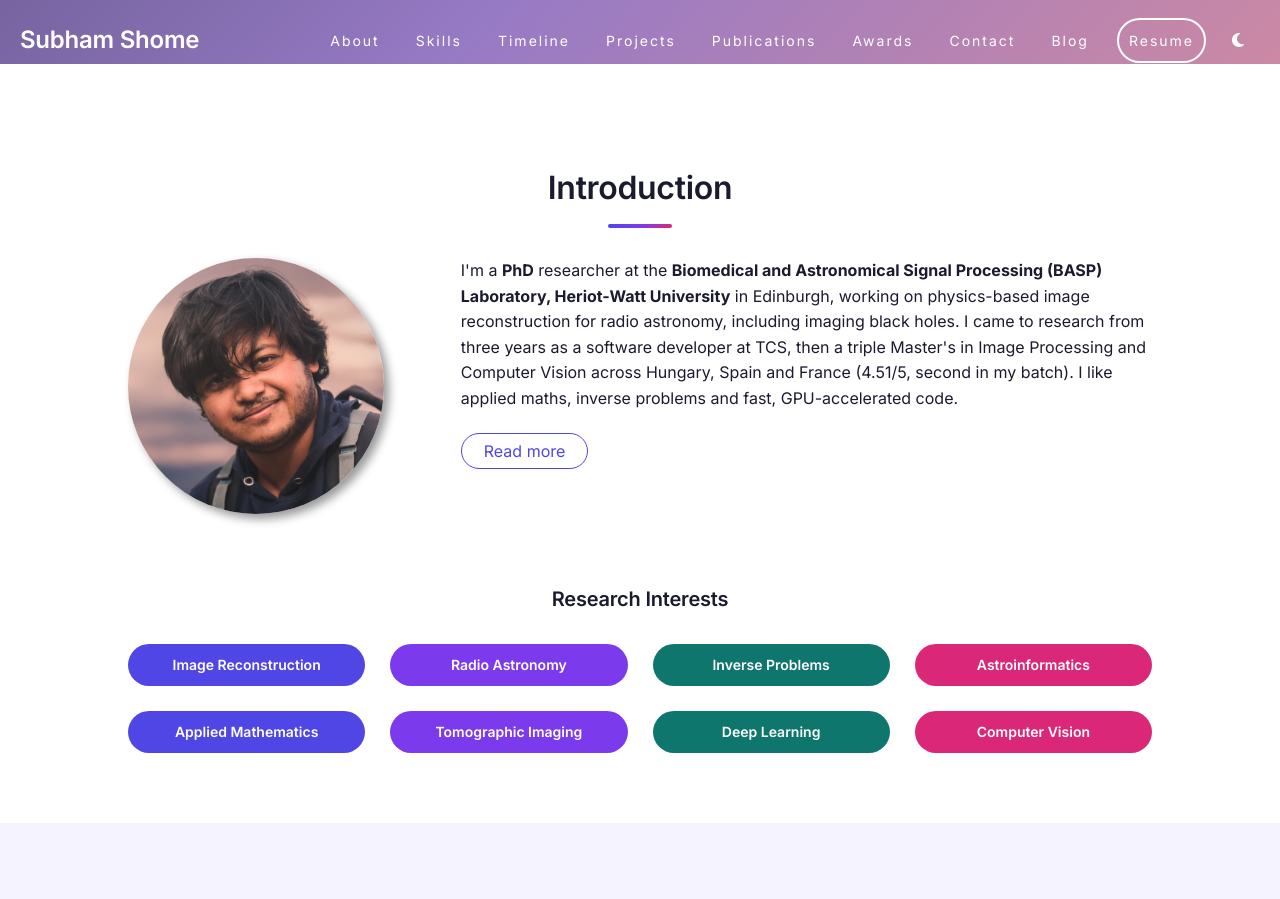
content › intro "Read more" toggles the long version
The image size is (1280, 899).
(page scrolled)
Click the button "Read more" at (525, 451), box [461, 433, 588, 469]
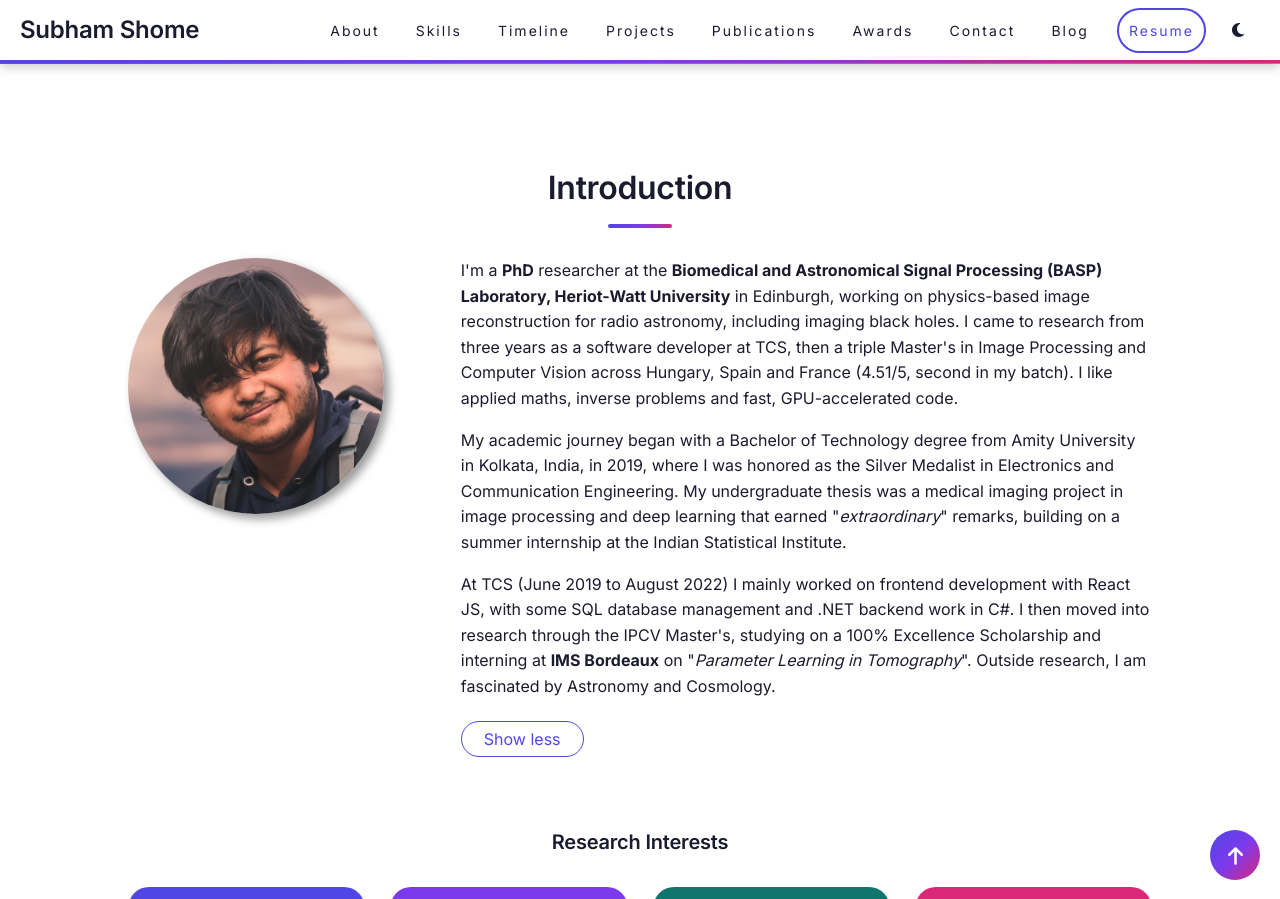
Now the text "Silver Medalist in Electronics" is shown, box [461, 430, 1135, 526]
Now the button "Show less" is shown, box [461, 720, 584, 757]
